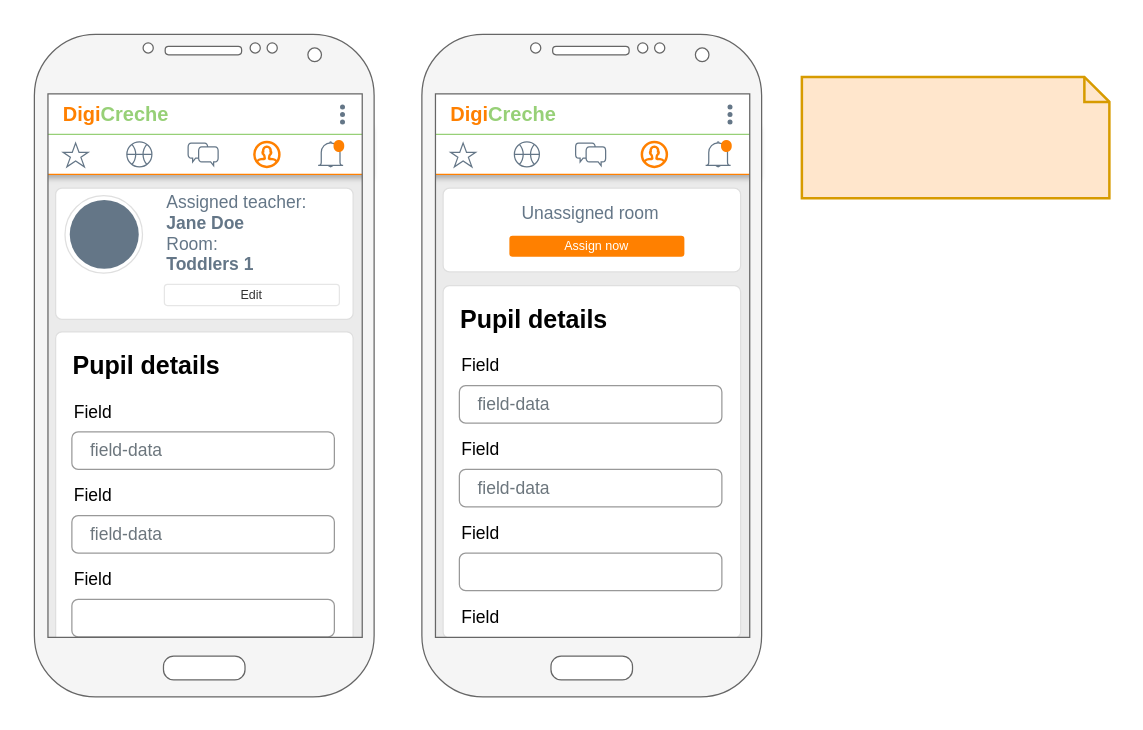
Image size: 1143x730. Some labels were removed from this diagram. The shapes that lost their labels are listed below. From the top down, each one's centre as x and y in pixels, then its label:
At (955,137): "- Only a manager can assign and re-assign a child to a room".
At (103,233): "Photo".
